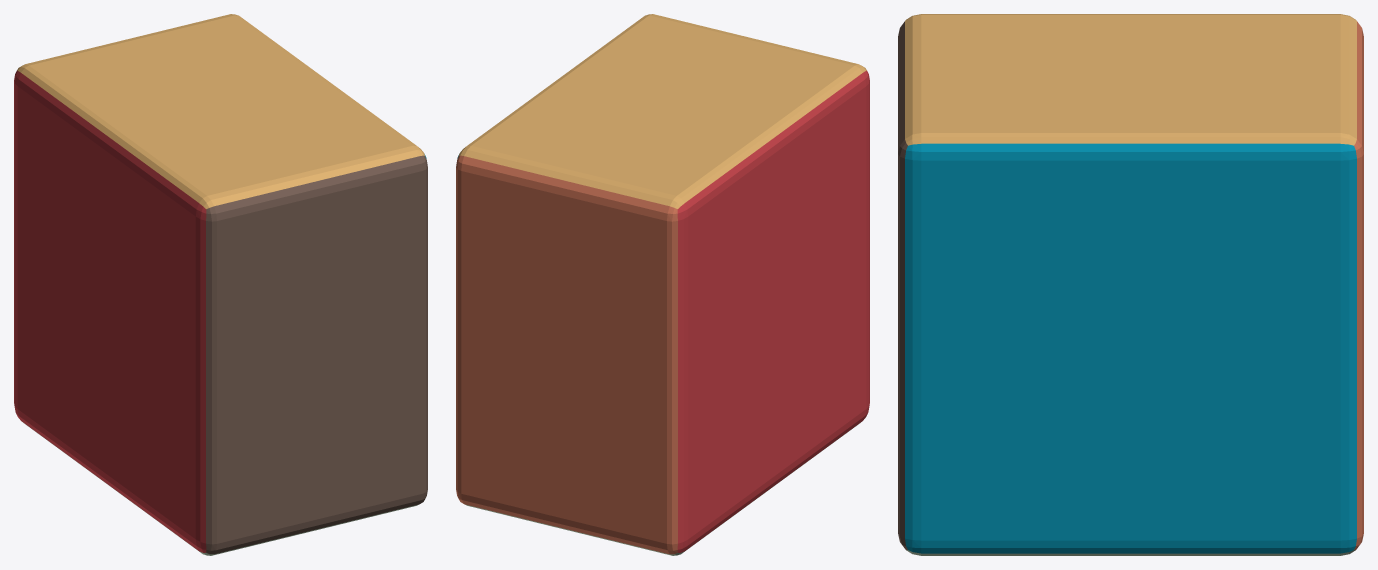
The model's file is tutorial cube 01.fbx.
3 views of the same model, side by side, from view 1: azimuth 30°, elevation 25°; view 2: azimuth 150°, elevation 25°; view 3: azimuth 270°, elevation 25° (orthographic). The views are drawn at different scales.
Visible parts, largest first — view 1: Cube; view 2: Cube; view 3: Cube.
Boxes of the visible parts, left/top/right/bottom form: Cube: left=14, top=14, right=427, bottom=555; Cube: left=456, top=14, right=869, bottom=555; Cube: left=898, top=14, right=1363, bottom=555.
Bounding box in the file's own units: 2 × 3 × 3.
